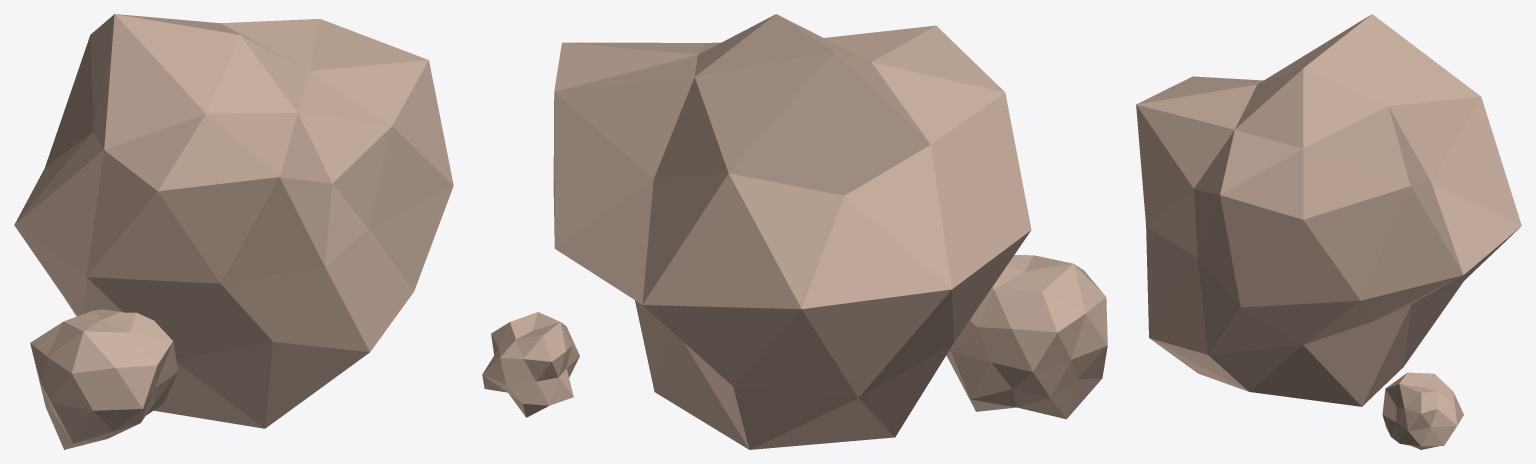
Rendered from space__asteroid_b.fbx.
3 views of the same model, side by side, from view 1: azimuth 30°, elevation 25°; view 2: azimuth 150°, elevation 25°; view 3: azimuth 270°, elevation 25° (orthographic). The views are drawn at different scales.
Visible parts, largest first — view 1: space__asteroid_b; view 2: space__asteroid_b; view 3: space__asteroid_b.
Boxes of the visible parts, x1=… form: space__asteroid_b: x1=14, y1=14, x2=453, y2=449; space__asteroid_b: x1=482, y1=14, x2=1107, y2=449; space__asteroid_b: x1=1136, y1=14, x2=1521, y2=449.
Size of the model in its own units: 6.24 by 5.04 by 5.23.
